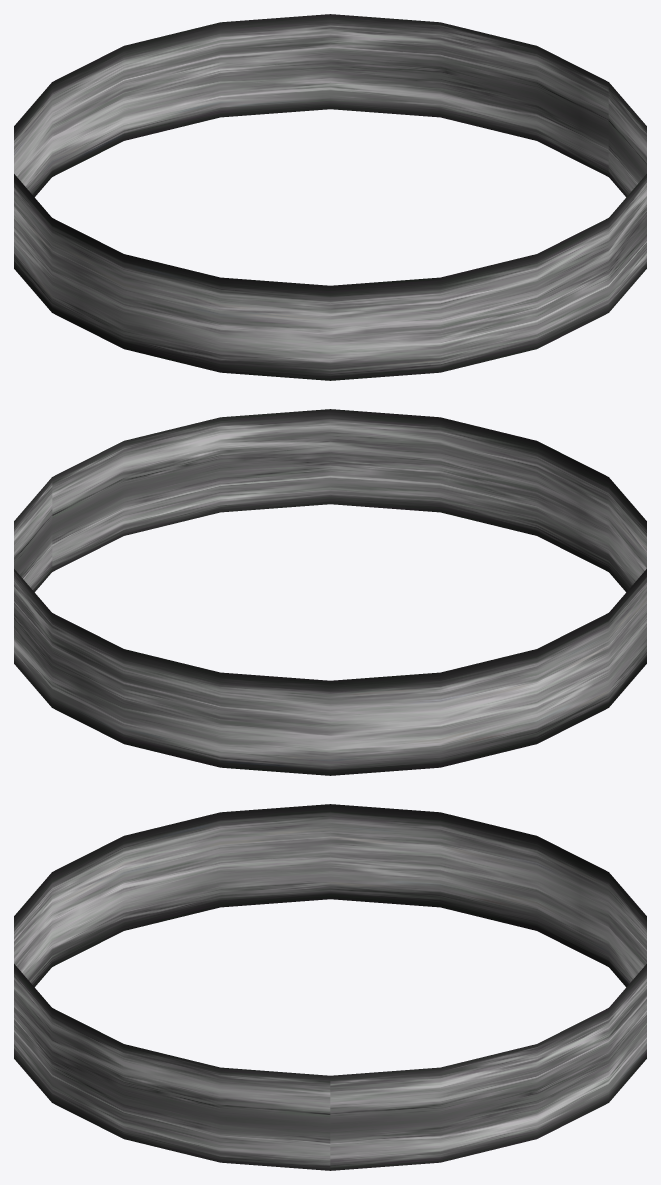
3 renders of one model, top to bottom at view 1: azimuth 30°, elevation 25°; view 2: azimuth 150°, elevation 25°; view 3: azimuth 270°, elevation 25°, orthographic.
Visible parts, largest first — view 1: YJ_01; view 2: YJ_01; view 3: YJ_01.
Boxes of the visible parts, x1,y1,x2,y2 form: YJ_01: [14, 14, 646, 380]; YJ_01: [14, 409, 646, 775]; YJ_01: [14, 804, 646, 1170].
Size of the model in its own units: 53.53 by 8.75 by 52.72.
